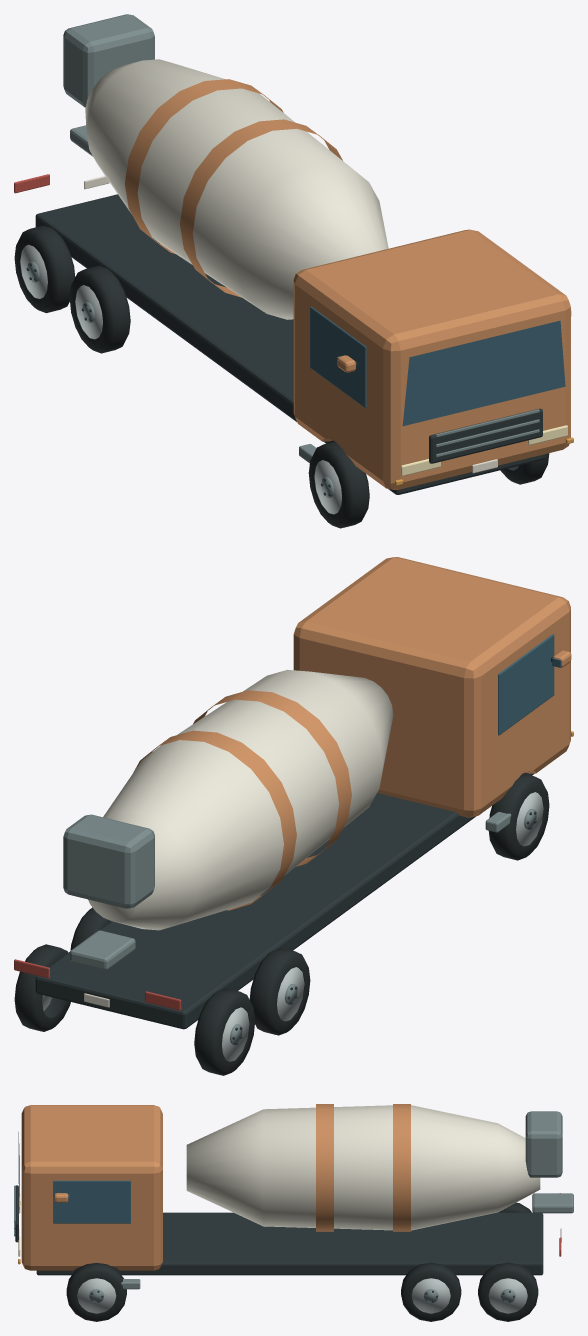
Rendered from original-truck-mixer-04.glb.
3 renders of one model, top to bottom at view 1: azimuth 30°, elevation 25°; view 2: azimuth 150°, elevation 25°; view 3: azimuth 270°, elevation 25°, orthographic. The views are drawn at different scales.
Parts seen in each view (by area): view 1: MixingDrum, TruckCab, Frame, TruckWindscreen, RearHopper, CabSideGlass, DrumBand, Tyre_A2R, DrumBand.001, Tyre_RR, Tyre_FR, CabGrille (+4 smaller); view 2: TruckCab, MixingDrum, Frame, RearHopper, CabSideGlass, DrumBand, DrumBand.001, Tyre_RR, Tyre_A2R, Tyre_RL, Tyre_FR, DischargeChute (+4 smaller); view 3: MixingDrum, Frame, TruckCab, CabSideGlass.001, RearHopper, DrumBand, DrumBand.001, Tyre_A2L, Tyre_RL, Tyre_FL, Rim_A2L, Rim_FL (+2 smaller).
Boxes of the visible parts, x1,y1,x2,y2 form: MixingDrum: (85,59,388,319); TruckCab: (293,229,570,489); Frame: (35,194,546,494); TruckWindscreen: (402,320,565,426); RearHopper: (63,14,154,107); CabSideGlass: (310,306,366,407); DrumBand: (180,119,342,297); Tyre_A2R: (69,266,130,353); DrumBand.001: (125,79,283,253); Tyre_RR: (14,225,75,313); Tyre_FR: (308,441,369,528); CabGrille: (429,408,542,463); TruckCab: (293,557,570,817); MixingDrum: (88,669,393,930); Frame: (35,772,534,1029); RearHopper: (63,814,154,908); CabSideGlass: (498,634,554,735); DrumBand: (193,690,351,866); DrumBand.001: (133,730,296,910); Tyre_RR: (194,988,255,1075); Tyre_A2R: (249,948,310,1035); Tyre_RL: (14,944,70,1031); Tyre_FR: (488,773,549,860); DischargeChute: (70,930,135,970); MixingDrum: (186,1105,540,1230); Frame: (36,1212,543,1275); TruckCab: (21,1105,162,1270); CabSideGlass.001: (53,1180,130,1223); RearHopper: (525,1111,562,1177); DrumBand: (316,1104,333,1231); DrumBand.001: (393,1104,410,1231); Tyre_A2L: (401,1262,461,1321); Tyre_RL: (478,1262,538,1321); Tyre_FL: (66,1262,126,1321); Rim_A2L: (411,1278,450,1313); Rim_FL: (77,1278,116,1313).
Bounding box in the file's own units: 2.85 × 3.08 × 8.72.
